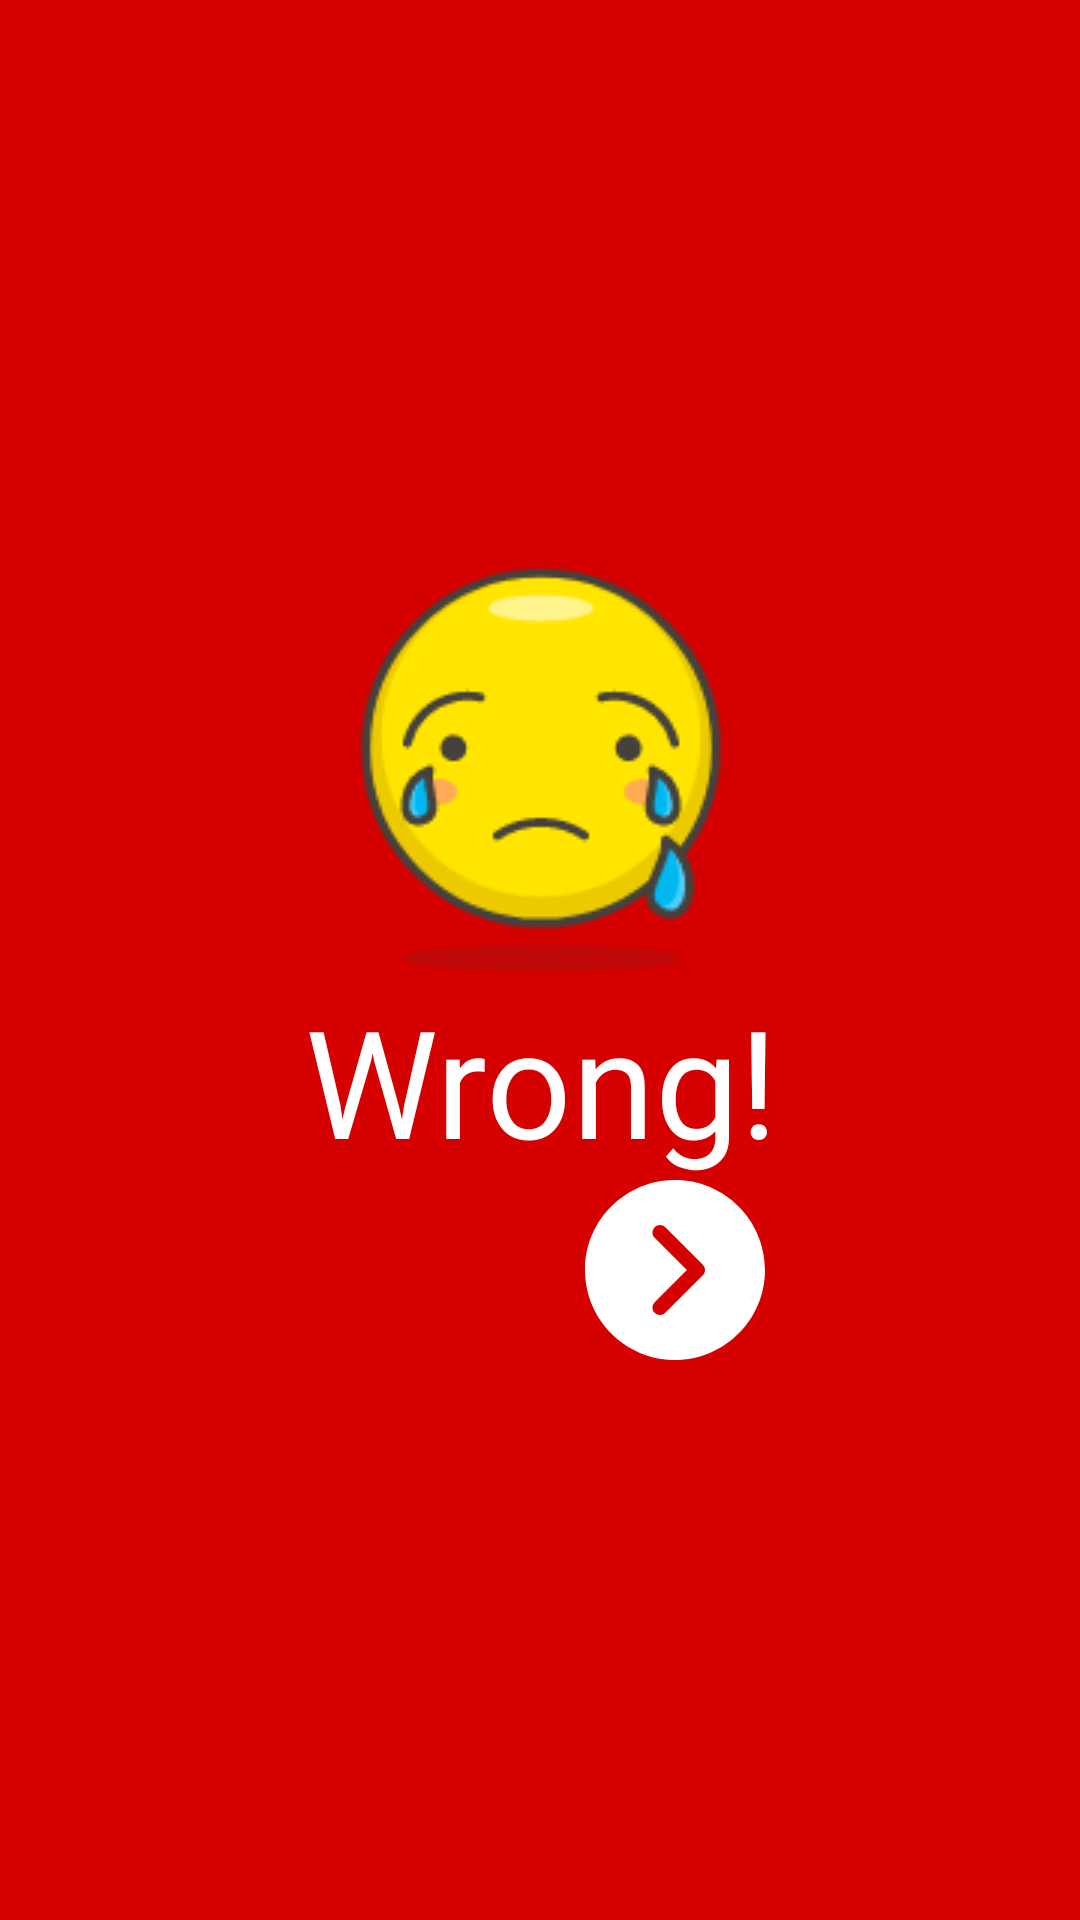

Screen size 1080 × 1920. Icon name, then its box in pixels as (x1, y1, x2, y2):
next: (585, 1180, 765, 1360)
